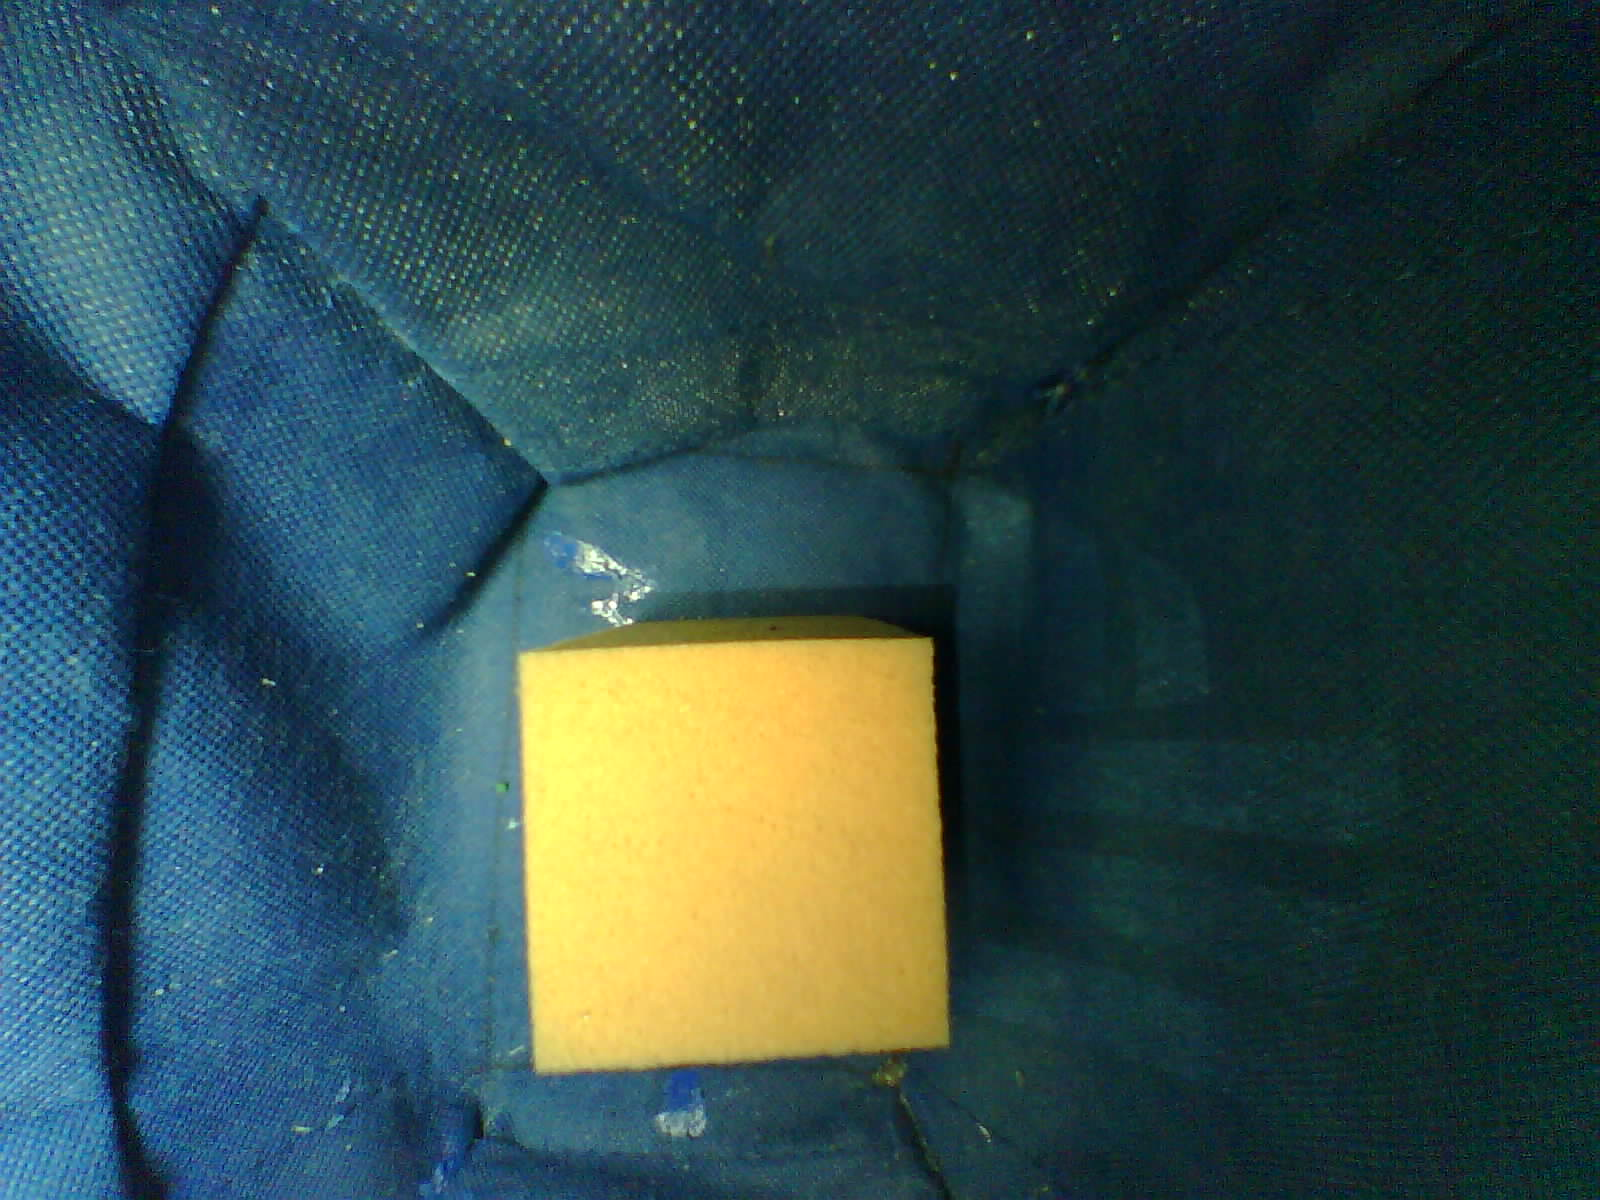cube-soft: (501, 606, 970, 1097)
